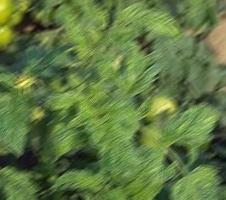Tomato leaf yellow virus: (90, 112, 141, 183), (160, 100, 222, 152), (41, 103, 93, 162), (0, 85, 36, 160), (49, 163, 110, 200), (122, 7, 186, 41), (170, 163, 226, 200), (0, 166, 39, 200)
